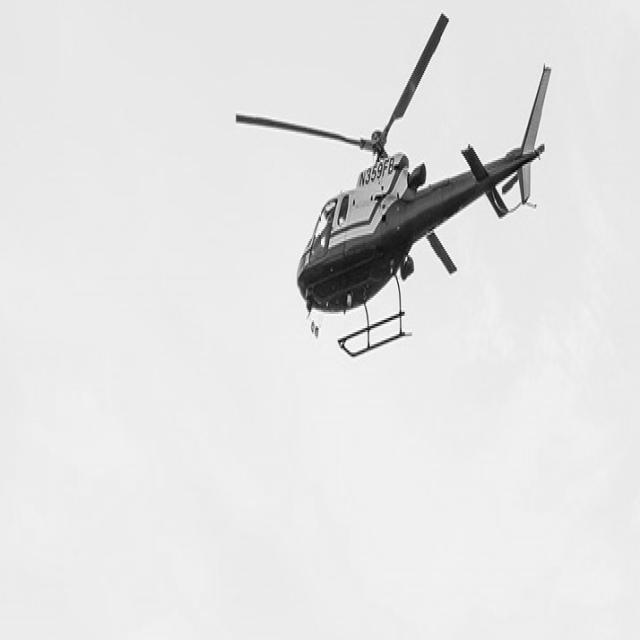helicopter: (233, 1, 570, 386)
